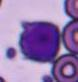L: (19, 21, 60, 63)
